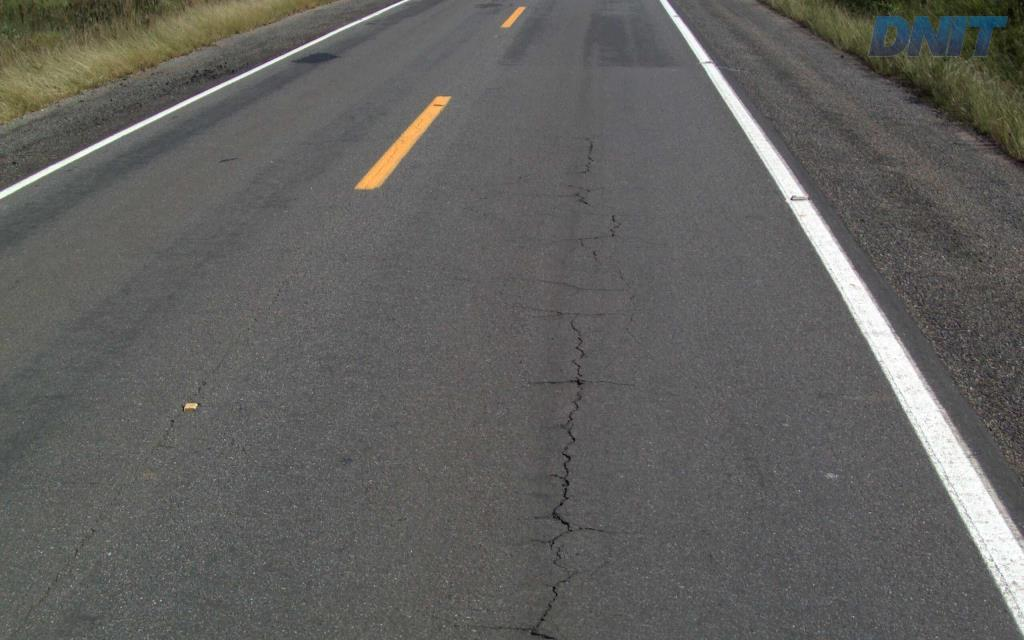crack: (532, 391, 582, 550), (532, 543, 578, 639)
